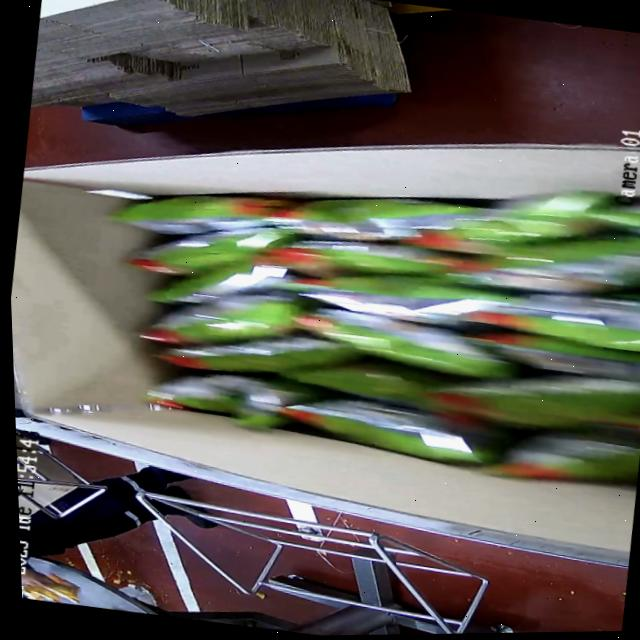YOGURT_HERB: (99, 119, 640, 498)
